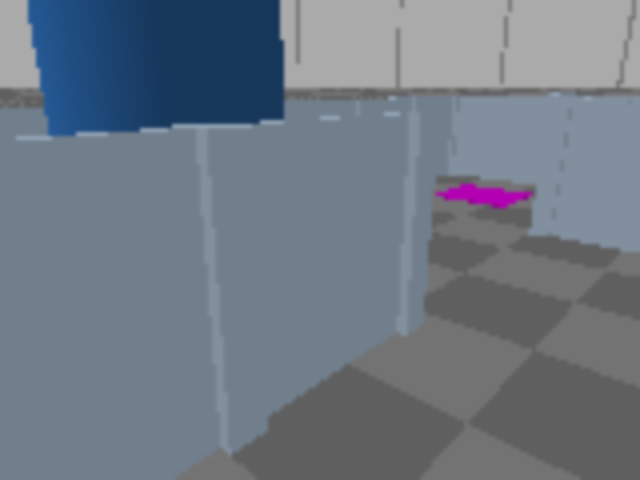goal_zone: (433, 185, 533, 208)
person: (0, 0, 265, 343)
